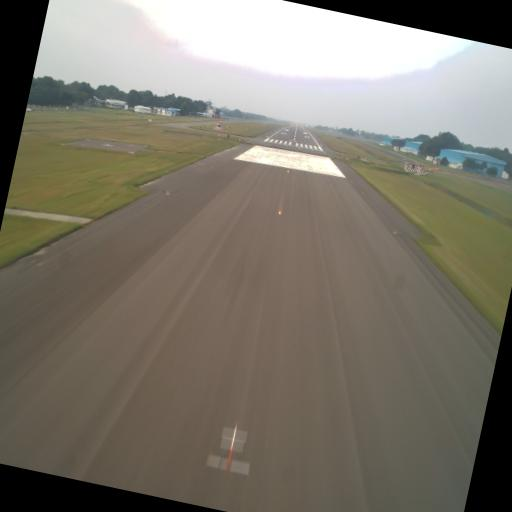on: (224, 419, 242, 452), (276, 206, 283, 219)
